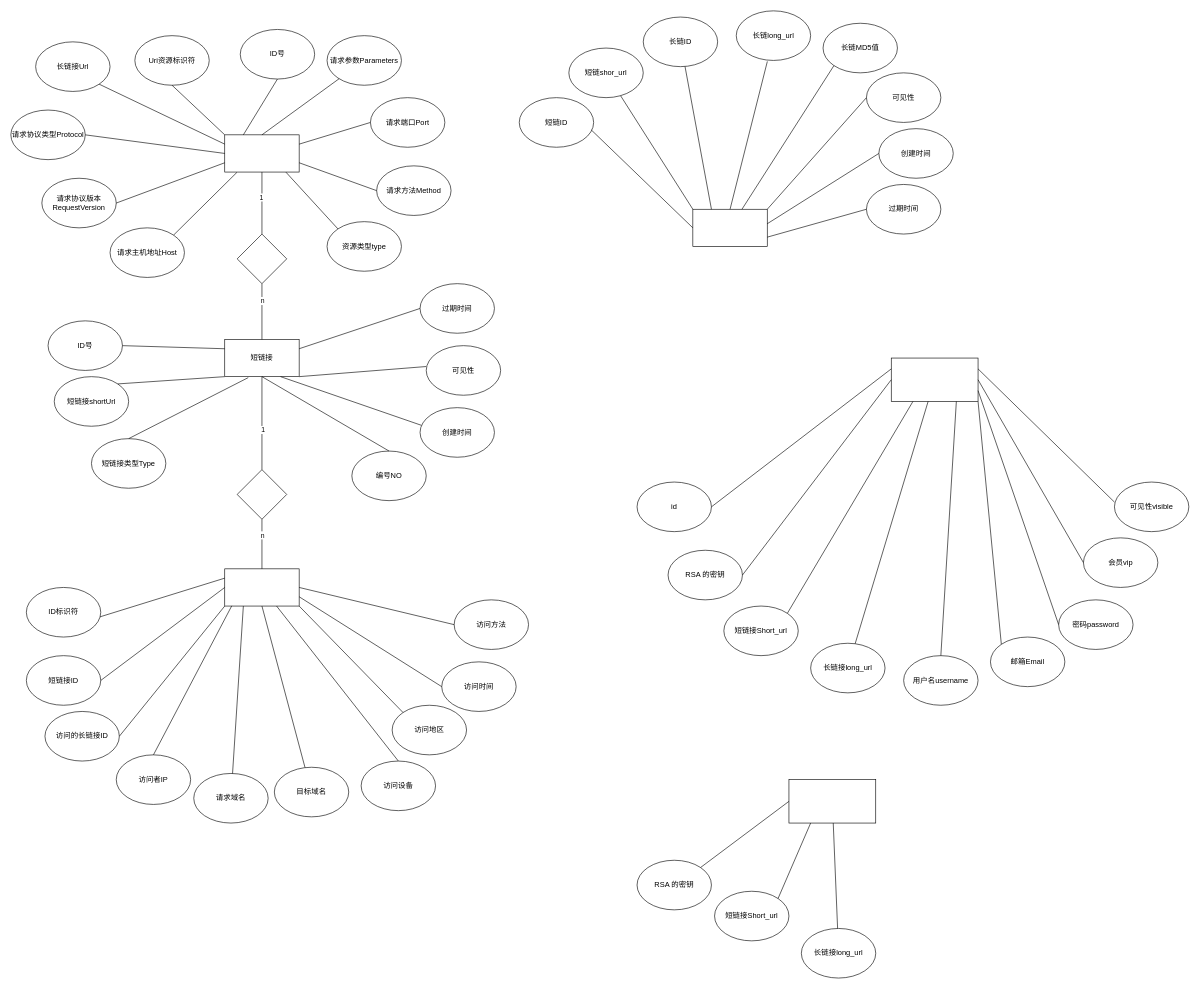
This 1200x989 diagram has some shape labels left out. Each missing label, with the centre of its shape:
URL映射关系url_map: (x=729, y=227)
前端用户app_user: (x=934, y=379)
匿名用户anonymous_user: (x=832, y=801)
生产: (x=262, y=258)
访问: (x=262, y=494)
访问日志visit_log: (x=261, y=587)
长链接: (x=261, y=153)
